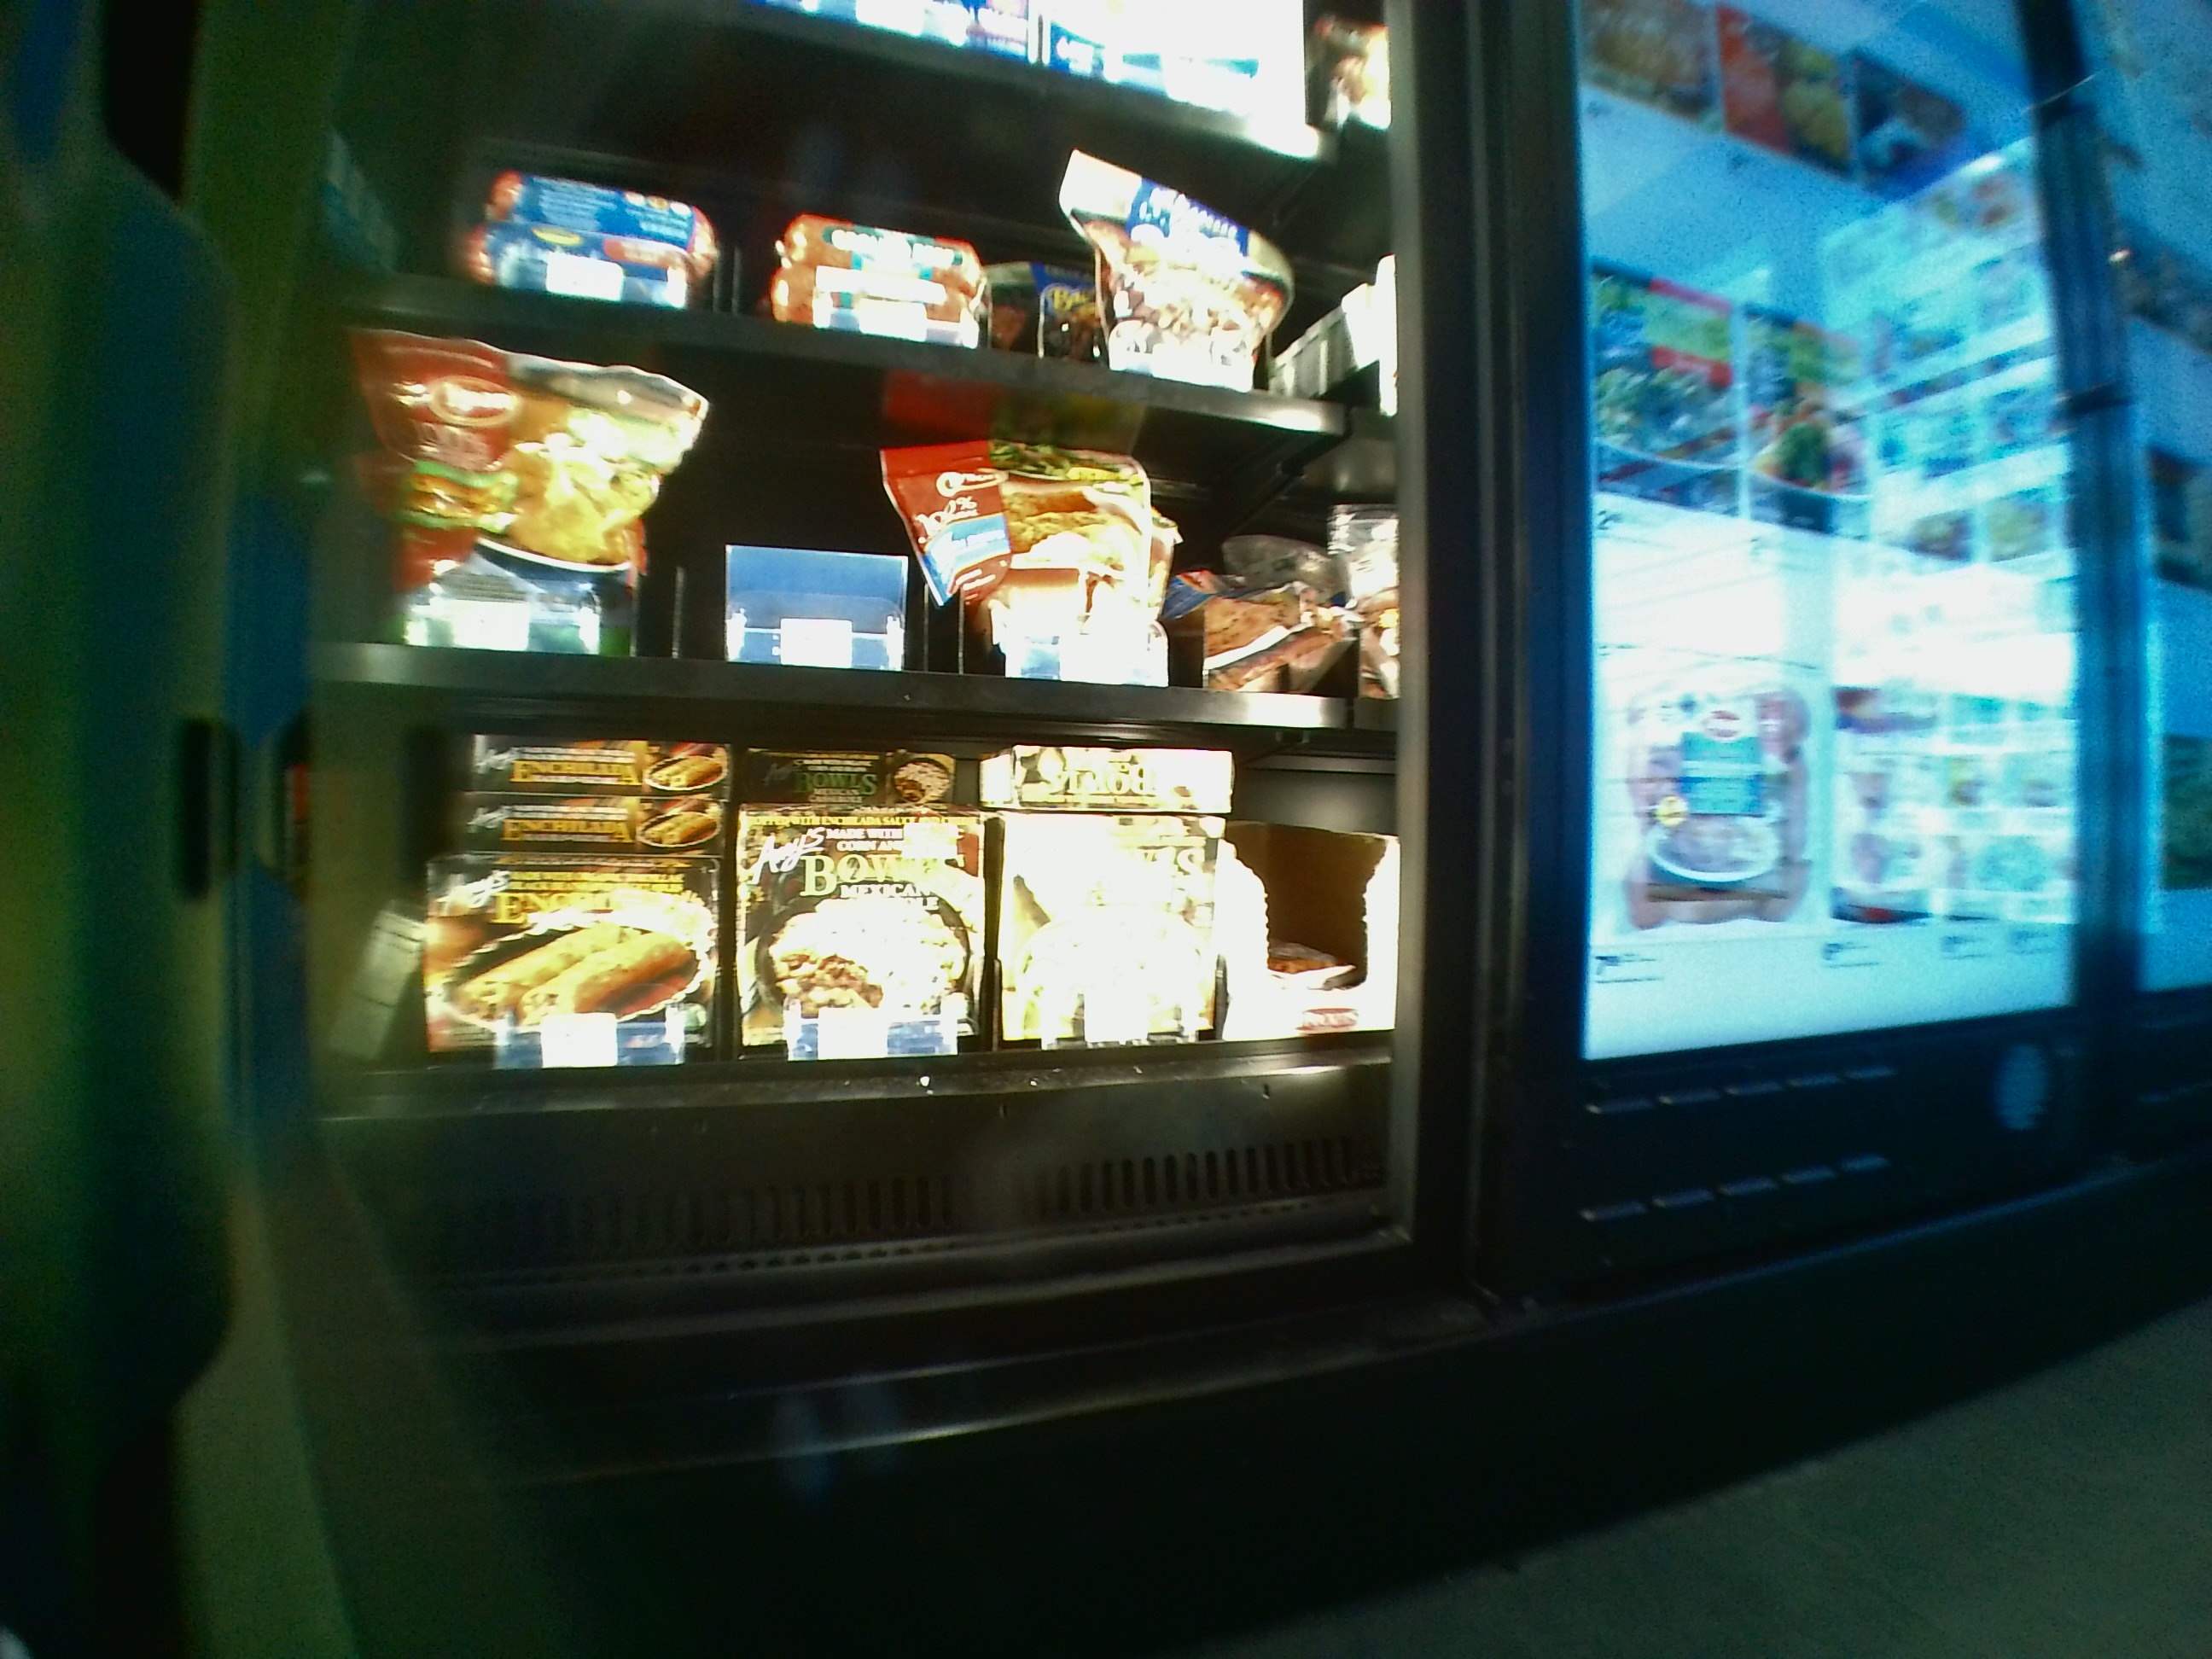shelf: (320, 737, 1390, 1208), (319, 324, 1383, 716)
